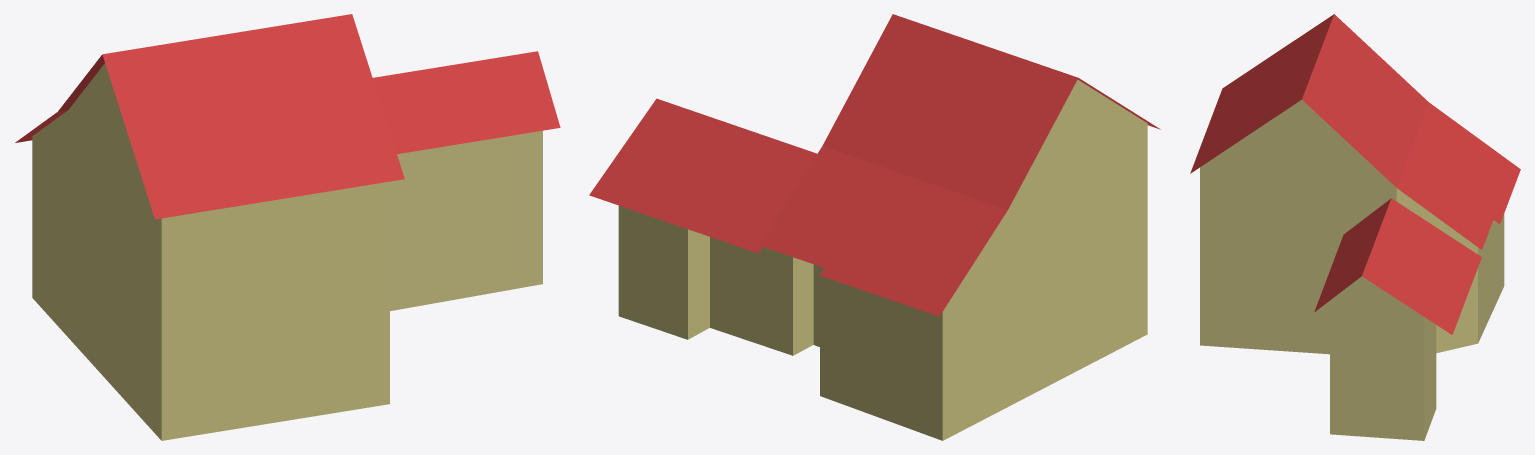
3 views of the same model, side by side, from view 1: azimuth 30°, elevation 25°; view 2: azimuth 150°, elevation 25°; view 3: azimuth 270°, elevation 25° (orthographic). The views are drawn at different scales.
Bounding box in the file's own units: 24.69 × 18.82 × 16.1.
